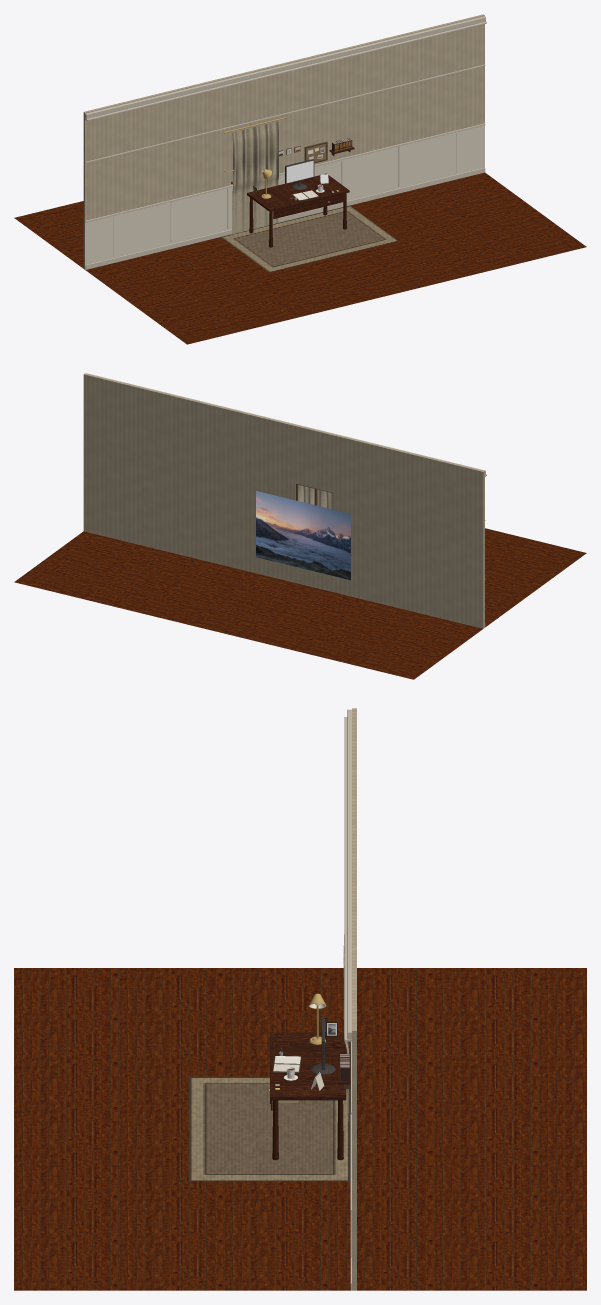
Rendered from desk.glb.
3 views of the same model, one above another, from view 1: azimuth 30°, elevation 25°; view 2: azimuth 150°, elevation 25°; view 3: azimuth 270°, elevation 25° (orthographic). The views are drawn at different scales.
Visible parts, largest first — view 1: decor_floor, decor_wall_r, decor_wall_l, decor_wainscot_panel, decor_rug, decor_curtain, decor_cornice, decor_skirting, decor_wall_t, desk_top, decor_cornice_lip, decor_chair_rail (+2 smaller); view 2: decor_floor, decor_wall_r, decor_wall_l, decor_window_view, decor_wall_t, decor_wall_b, decor_curtain, decor_cornice; view 3: decor_floor, decor_rug, desk_top, decor_wall_r, decor_cornice, decor_cornice_lip.
Part boxes in pixels (x1=…): decor_floor: x1=14, y1=172, x2=586, y2=344; decor_wall_r: x1=272, y1=14, x2=484, y2=173; decor_wall_l: x1=83, y1=75, x2=234, y2=269; decor_wainscot_panel: x1=85, y1=125, x2=484, y2=264; decor_rug: x1=221, y1=205, x2=398, y2=272; decor_curtain: x1=232, y1=121, x2=278, y2=234; decor_cornice: x1=85, y1=16, x2=485, y2=118; decor_skirting: x1=85, y1=167, x2=485, y2=269; decor_wall_t: x1=233, y1=66, x2=273, y2=131; desk_top: x1=247, y1=173, x2=349, y2=211; decor_cornice_lip: x1=85, y1=21, x2=486, y2=120; decor_chair_rail: x1=85, y1=123, x2=485, y2=222; decor_floor: x1=14, y1=528, x2=586, y2=679; decor_wall_r: x1=83, y1=373, x2=295, y2=582; decor_wall_l: x1=334, y1=434, x2=484, y2=628; decor_window_view: x1=256, y1=491, x2=350, y2=580; decor_wall_t: x1=295, y1=425, x2=334, y2=492; decor_wall_b: x1=295, y1=566, x2=333, y2=592; decor_curtain: x1=298, y1=484, x2=333, y2=509; decor_cornice: x1=86, y1=373, x2=485, y2=475; decor_floor: x1=14, y1=968, x2=586, y2=1290; decor_rug: x1=188, y1=1076, x2=350, y2=1181; desk_top: x1=270, y1=1032, x2=346, y2=1100; decor_wall_r: x1=352, y1=860, x2=356, y2=1290; decor_cornice: x1=347, y1=709, x2=351, y2=1039; decor_cornice_lip: x1=344, y1=717, x2=351, y2=1041.
Bounding box in the file's own units: 8 × 3 × 6.
43 materials, 16 textured.
